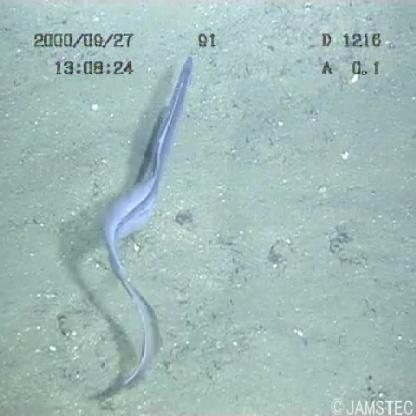Bio: (94, 48, 199, 398)
